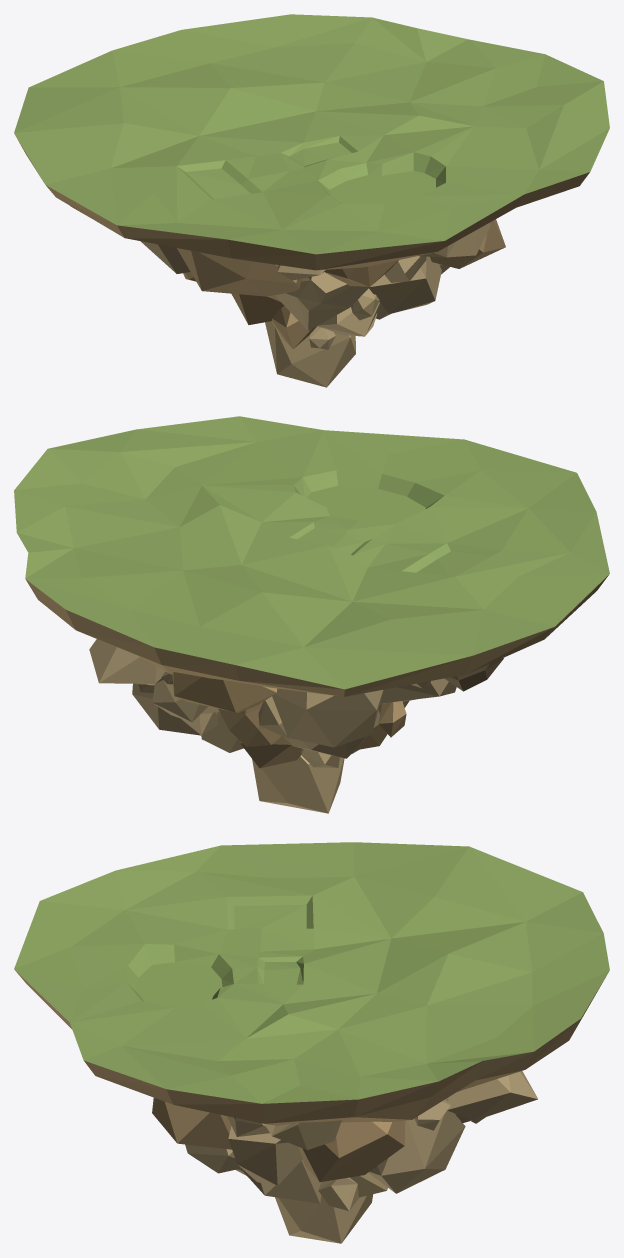
The model's file is island 1.FBX.
3 views of the same model, one above another, from view 1: azimuth 30°, elevation 25°; view 2: azimuth 150°, elevation 25°; view 3: azimuth 270°, elevation 25° (orthographic). The views are drawn at different scales.
Visible parts, largest first — view 1: Plane001; view 2: Plane001; view 3: Plane001.
Part boxes in pixels (bbox=[...]): Plane001: bbox=[14, 14, 609, 387]; Plane001: bbox=[14, 416, 609, 813]; Plane001: bbox=[14, 842, 609, 1243].
Bounding box in the file's own units: 160 × 74.39 × 148.
1 material, 1 textured.
